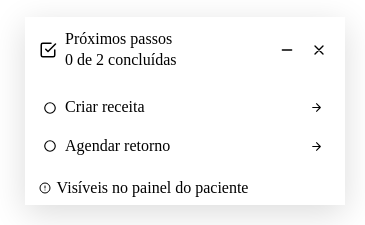
Test: WidgetProximosPassos (addendum 2) › CA197 — clicar em minimizar exibe a pílula
Step 1. Click the 1st button with class "wpp-btn-icone" → (287, 50), box [275,38,299,62]
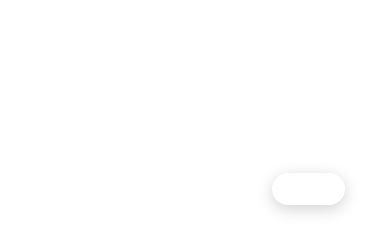
Expected: the button with class "wpp-pilula" is shown, [272,173,345,205]
Now the element with class "wpp-widget" is gone
